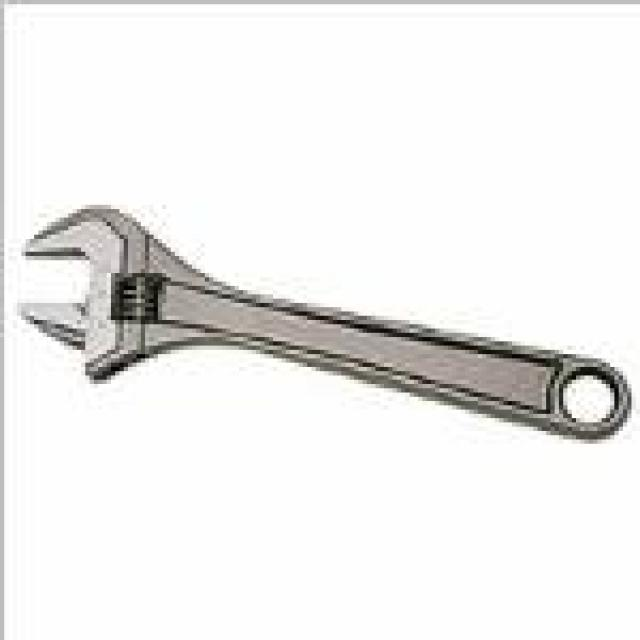wrench: (8, 196, 638, 448)
